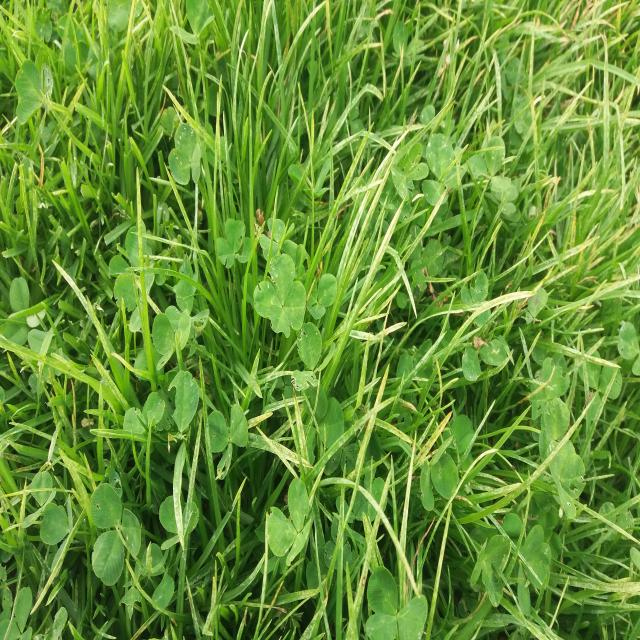Four Leaf Clover: (253, 253, 306, 338)
